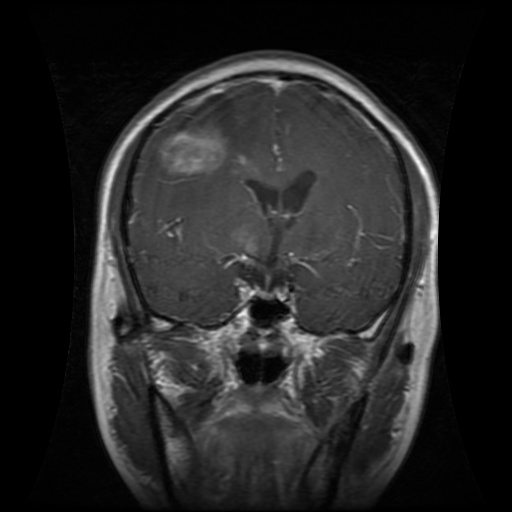glioma: (147, 93, 240, 180)
